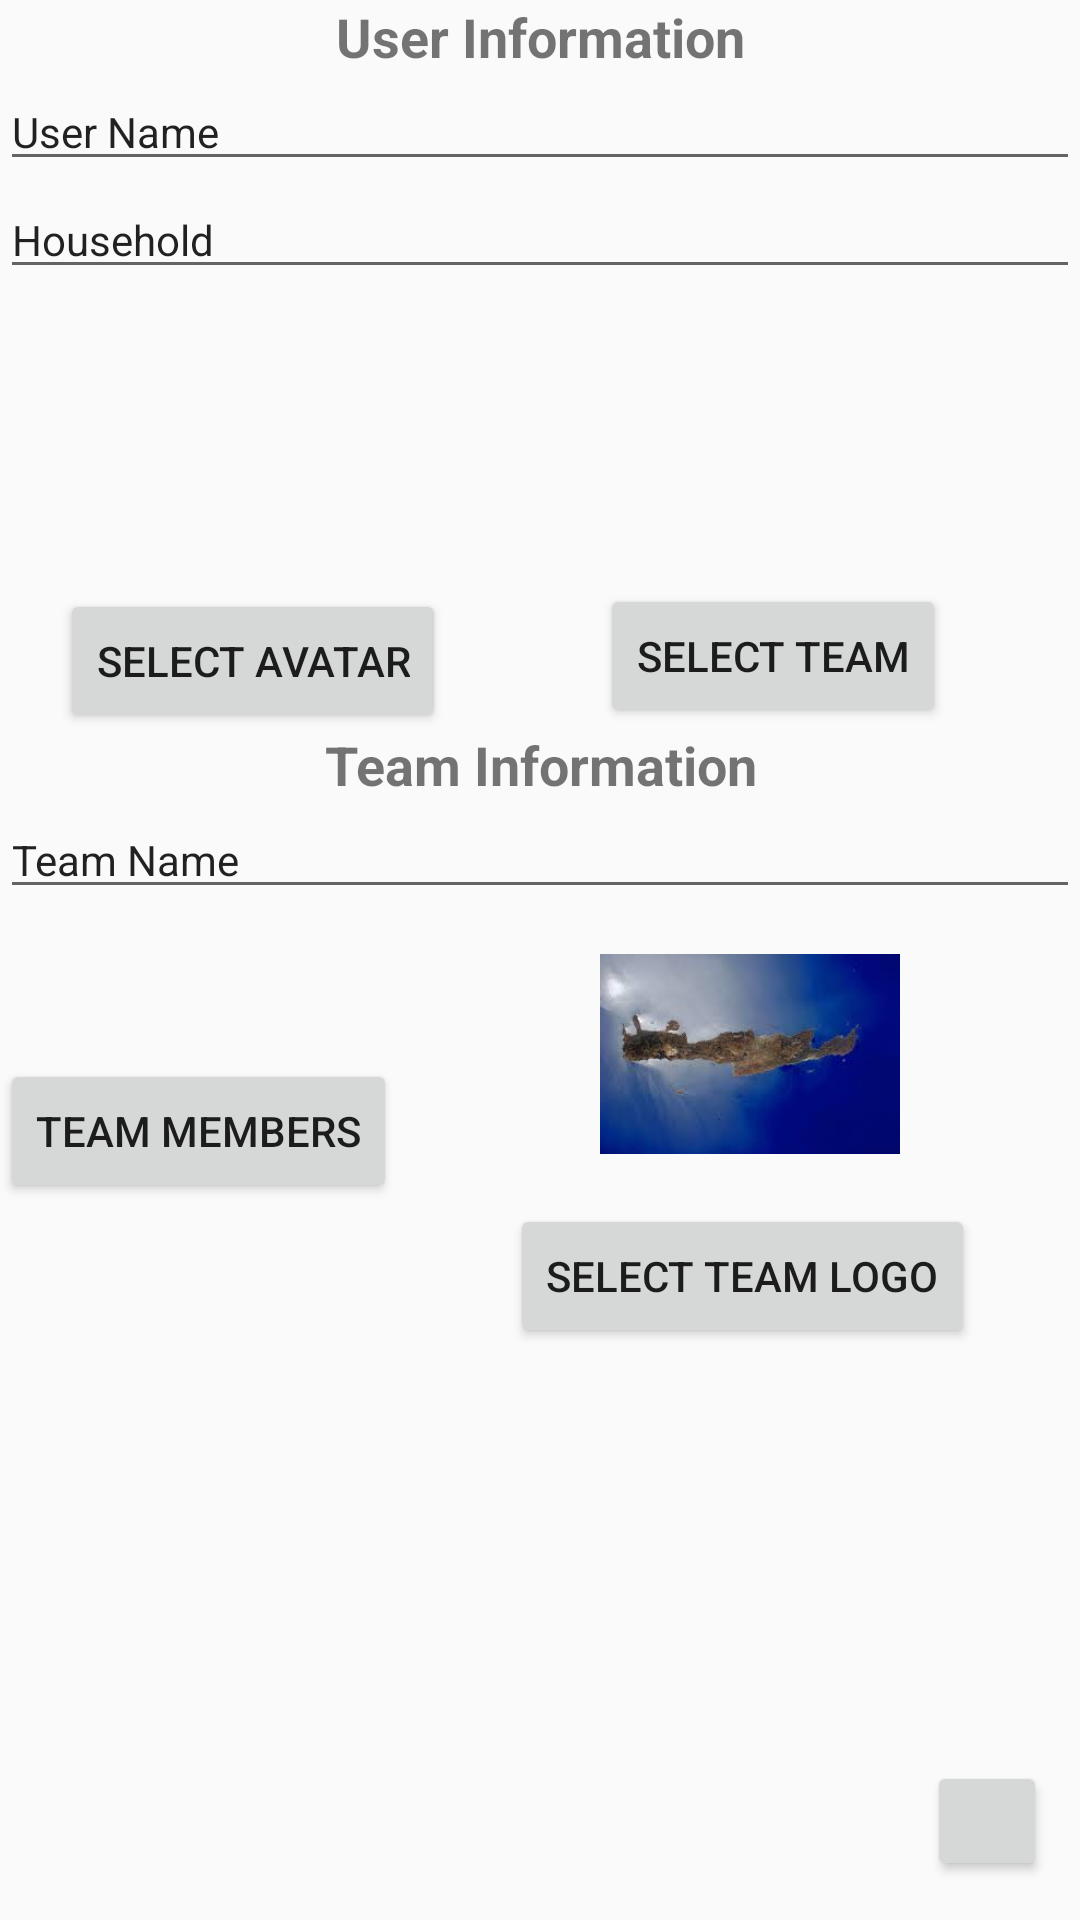

Icons on this 1080w x 1920h Android screen, each with its box as (x1, y1, x2, y2):
kriti: (600, 954, 900, 1154)
